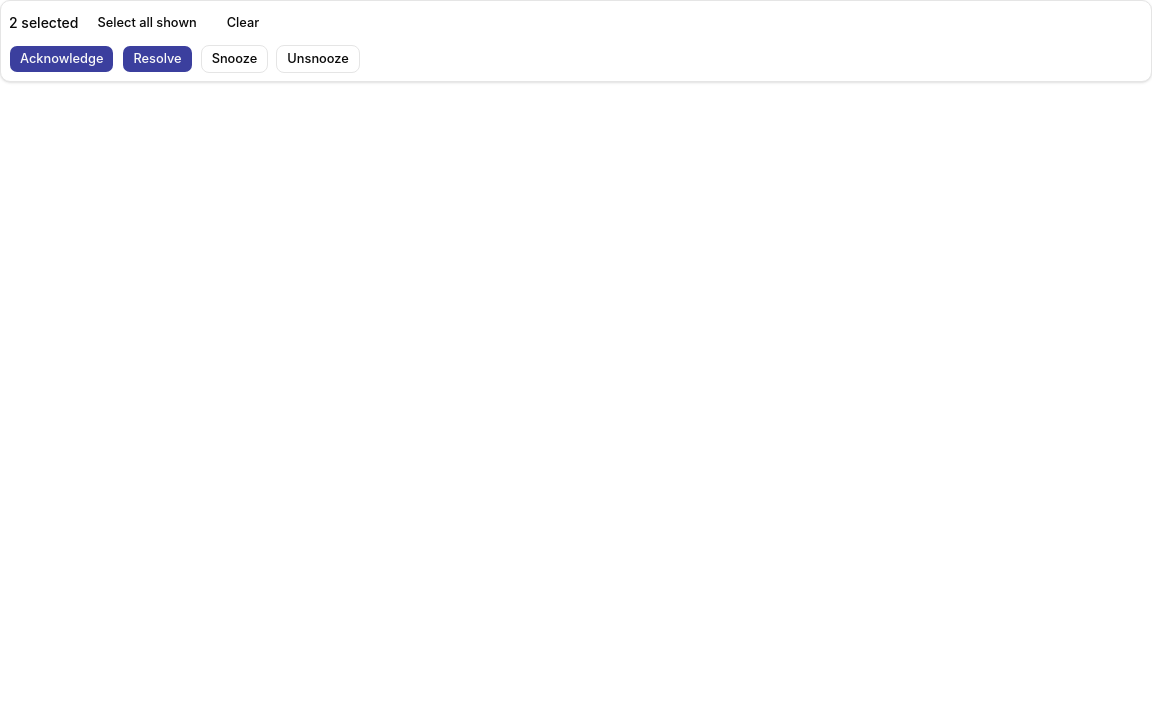
Test: BulkActionsBar › a bulk Snooze sends the chosen Snooze preset with the user's time zone
Step 1. Click the button "Snooze" → (234, 59), box [201, 45, 268, 73]
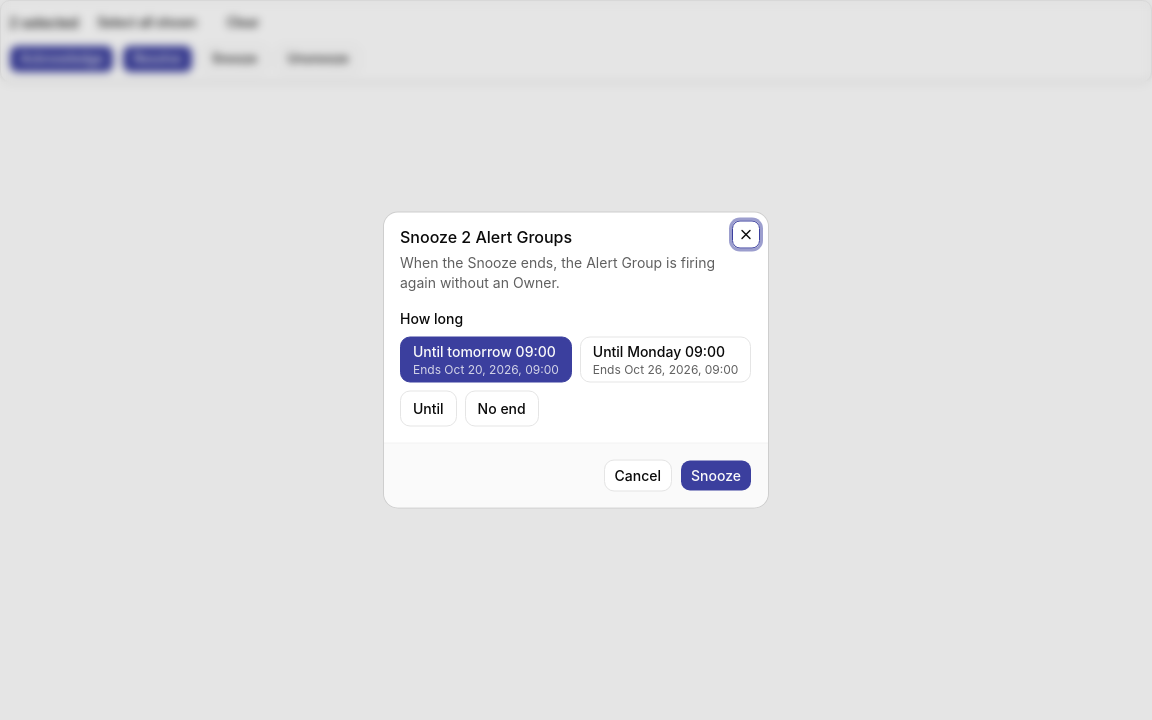
Expected: the text with test id "snooze-preset-end-week_start" reads "Ends Oct 26, 2026, 09:00", [593, 362, 738, 376]
Step 2. Click the radio button with test id "snooze-choice-week_start" → (666, 360), box [580, 336, 751, 382]
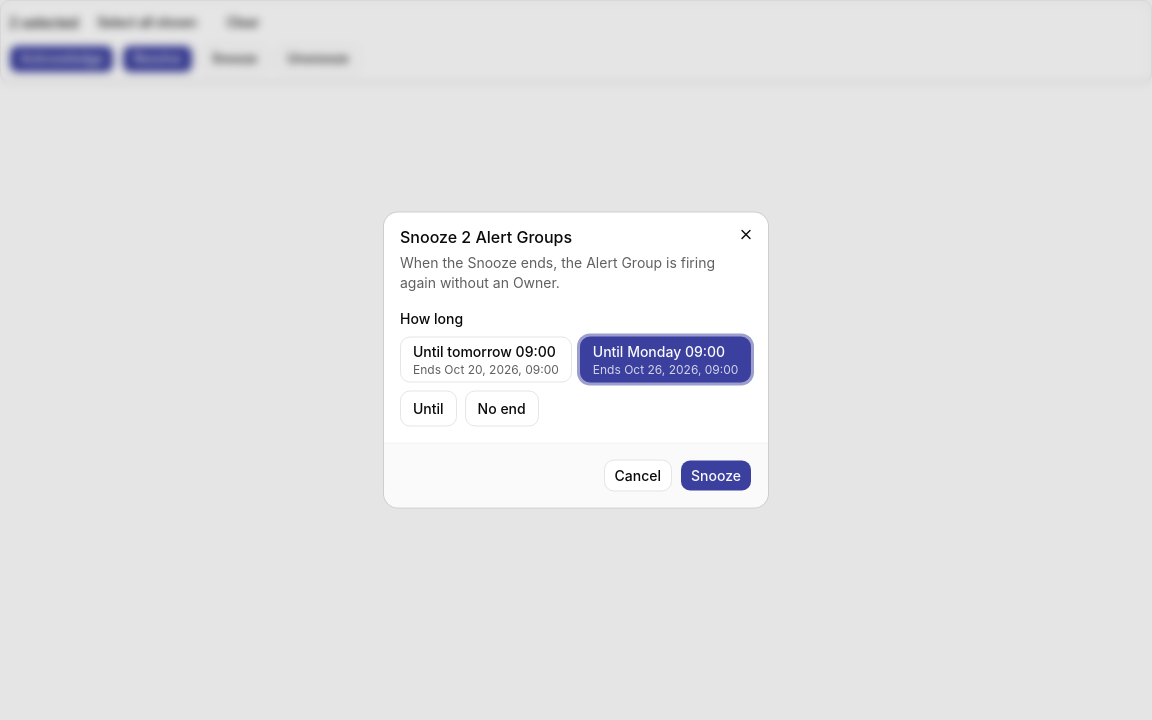
Expected: the radio button labelled "Until Monday 09:00" is checked, [580, 336, 751, 382]
Step 3. Click the button "Snooze" → (716, 476), box [680, 460, 752, 492]
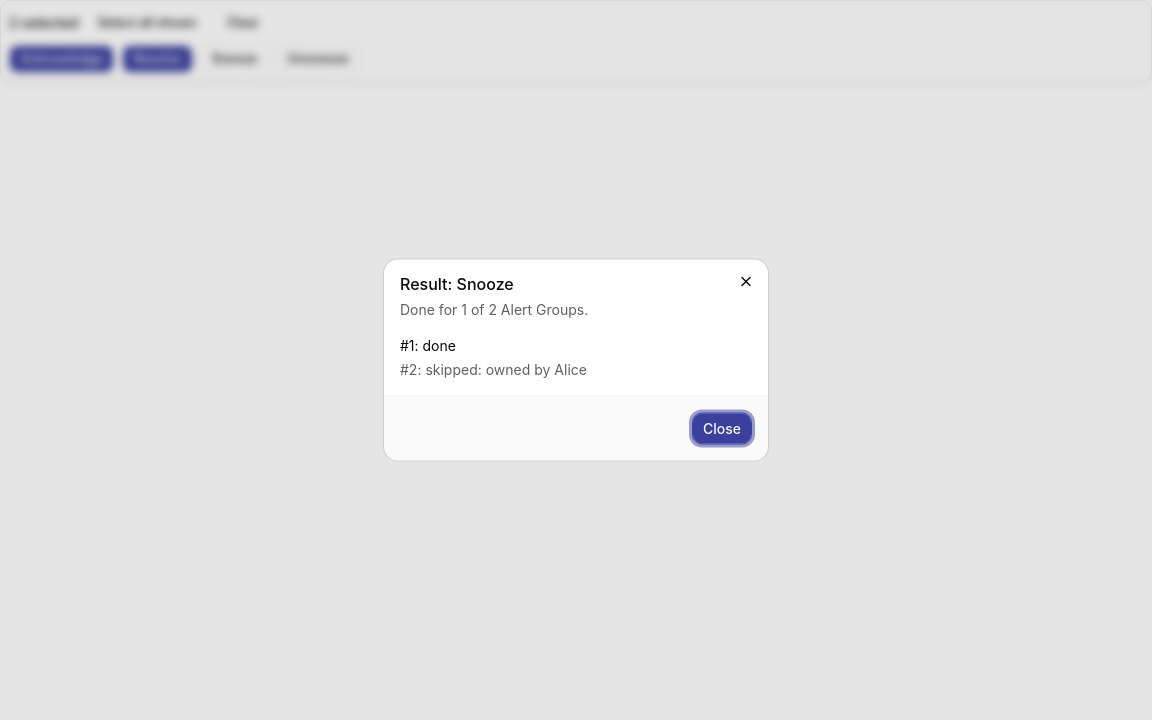
Expected: the dialog "Result: Snooze" is shown, [384, 260, 768, 460]
